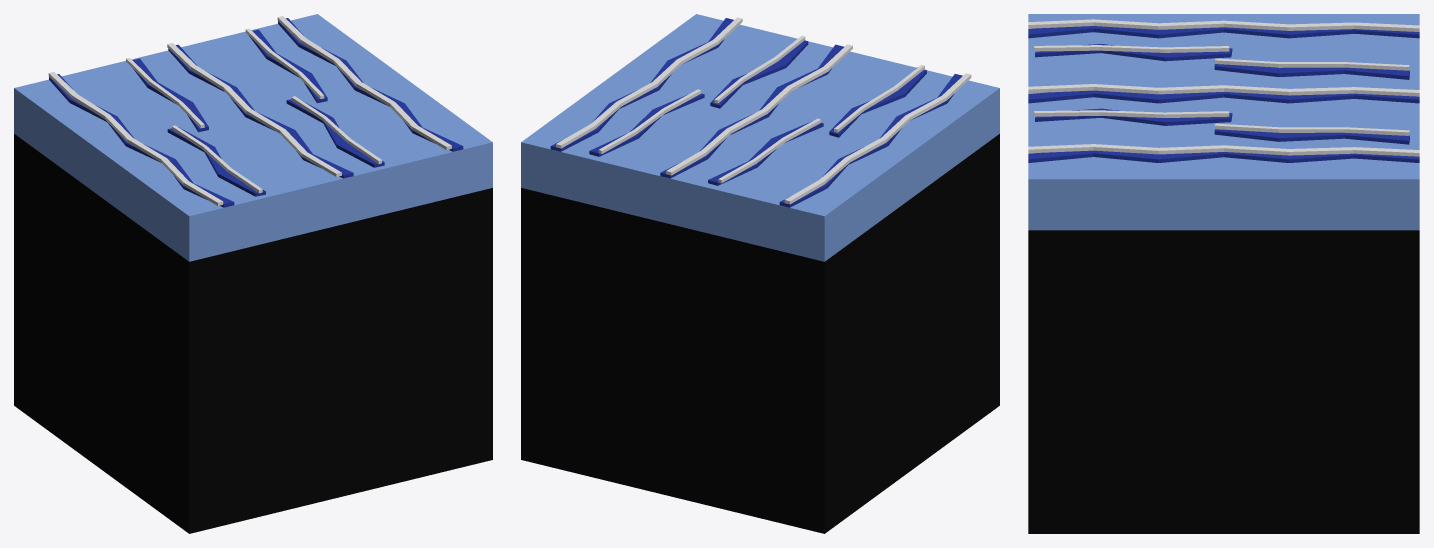
The model's file is Tile-Water.glb.
3 renders of one model, left to right at view 1: azimuth 30°, elevation 25°; view 2: azimuth 150°, elevation 25°; view 3: azimuth 270°, elevation 25°, orthographic. The views are drawn at different scales.
Parts seen in each view (by area): view 1: Cube; view 2: Cube; view 3: Cube.
Boxes of the visible parts, x1,y1,x2,y2 form: Cube: (14, 14, 492, 533); Cube: (521, 14, 999, 533); Cube: (1028, 14, 1419, 533).
Bounding box in the file's own units: 2 × 2.04 × 2.
